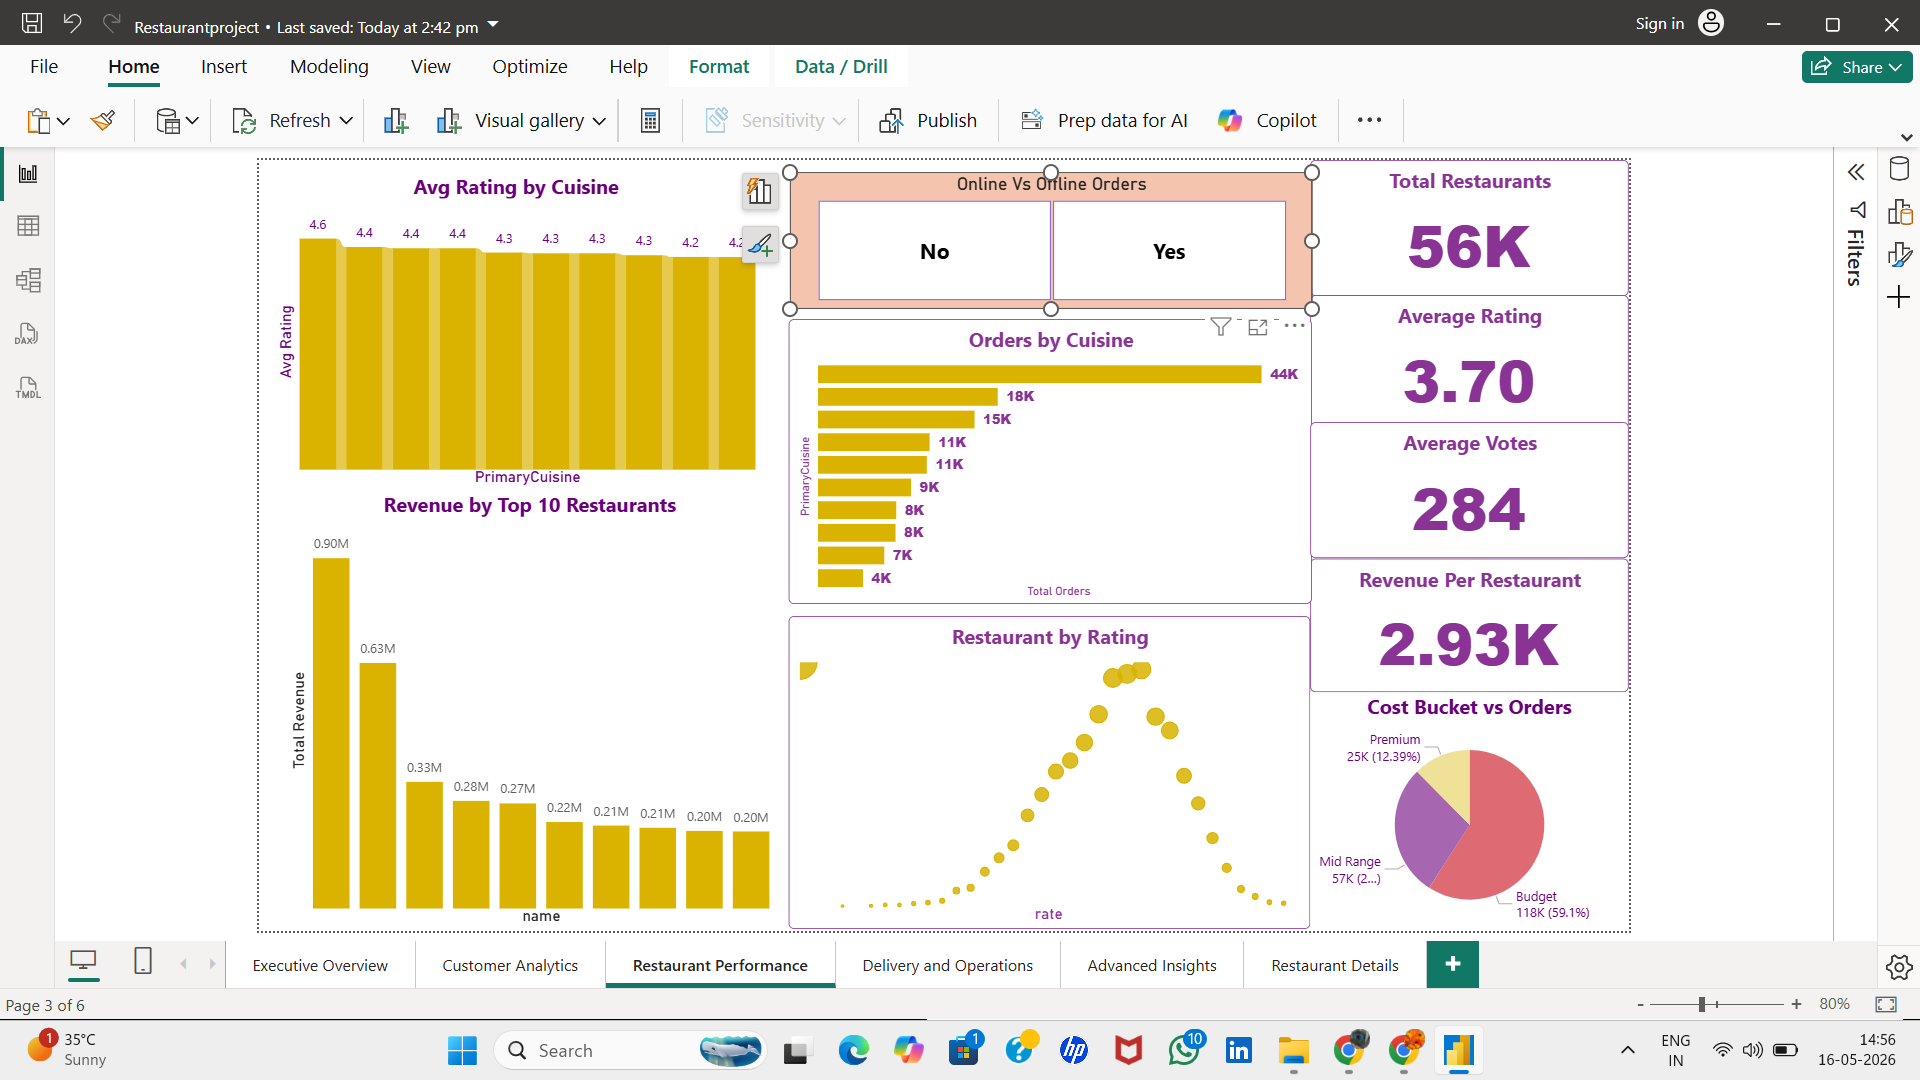

The dashboard page shown, as its layout file describes it:
{"tool":"powerbi","page":{"name":"Restaurant Performance","canvas":[1280,720],"ordinal":2},"visuals":[{"type":"card","title":"Total Restaurants","fields":{"Values":["Orders.Total Restaurants"]},"box":[983,0,297.3,126.7],"z":0},{"type":"card","title":"Revenue Per Restaurant","fields":{"Values":["Orders.Revenue per Restaurant"]},"box":[983,372.1,297.3,125.1],"z":1000},{"type":"card","title":"Average Rating","fields":{"Values":["Orders.Avg Rating"]},"box":[983,126.7,297.3,125.1],"z":2000},{"type":"barChart","title":"Orders by Cuisine","fields":{"Category":["Restaurants.PrimaryCuisine"],"Y":["Orders.Total Orders"]},"box":[494.7,149.2,489.3,266.1],"z":3000},{"type":"card","title":"Average Votes","fields":{"Values":["Orders.Avg Votes"]},"box":[983,245.4,297.3,126.7],"z":4000},{"type":"columnChart","title":"Revenue by Top 10 Restaurants","fields":{"Category":["Restaurants.name"],"Y":["Orders.Total Revenue"]},"box":[23.5,309.2,458.7,410],"z":5000},{"type":"columnChart","title":"Avg Rating by Cuisine","fields":{"Category":["Restaurants.PrimaryCuisine"],"Y":["Orders.Avg Rating"]},"box":[11.4,11.4,458.2,297.3],"z":6000},{"type":"scatterChart","title":"Restaurant by Rating","fields":{"X":["Restaurants.rate"],"Y":["Orders.Total Revenue"],"Size":["Orders.Total Orders"]},"box":[495.6,425.7,487.5,292.5],"z":7000},{"type":"pieChart","title":"Cost Bucket vs Orders","fields":{"Category":["Restaurants.Cost Bucket"],"Y":["Orders.Total Orders"]},"box":[983,497.2,297.3,222.6],"z":8000},{"type":"slicer","title":"Online Vs Offline Orders","fields":{"Values":["Restaurants.Online_Order 2"]},"box":[496,10.8,487.9,127.7],"z":9000}]}

Visuals, with their boxes on the page's 1280x720 design canvas (x1, y1, x2, y2). These are canvas units, not pixel positions in the 1920x1080 screenshot, which may show the page scaled, cropped or inside an application window:
"Total Restaurants" card: region(983, 0, 1280, 127)
"Revenue Per Restaurant" card: region(983, 372, 1280, 497)
"Average Rating" card: region(983, 127, 1280, 252)
"Orders by Cuisine" barChart: region(495, 149, 984, 415)
"Average Votes" card: region(983, 245, 1280, 372)
"Revenue by Top 10 Restaurants" columnChart: region(24, 309, 482, 719)
"Avg Rating by Cuisine" columnChart: region(11, 11, 470, 309)
"Restaurant by Rating" scatterChart: region(496, 426, 983, 718)
"Cost Bucket vs Orders" pieChart: region(983, 497, 1280, 720)
"Online Vs Offline Orders" slicer: region(496, 11, 984, 138)
